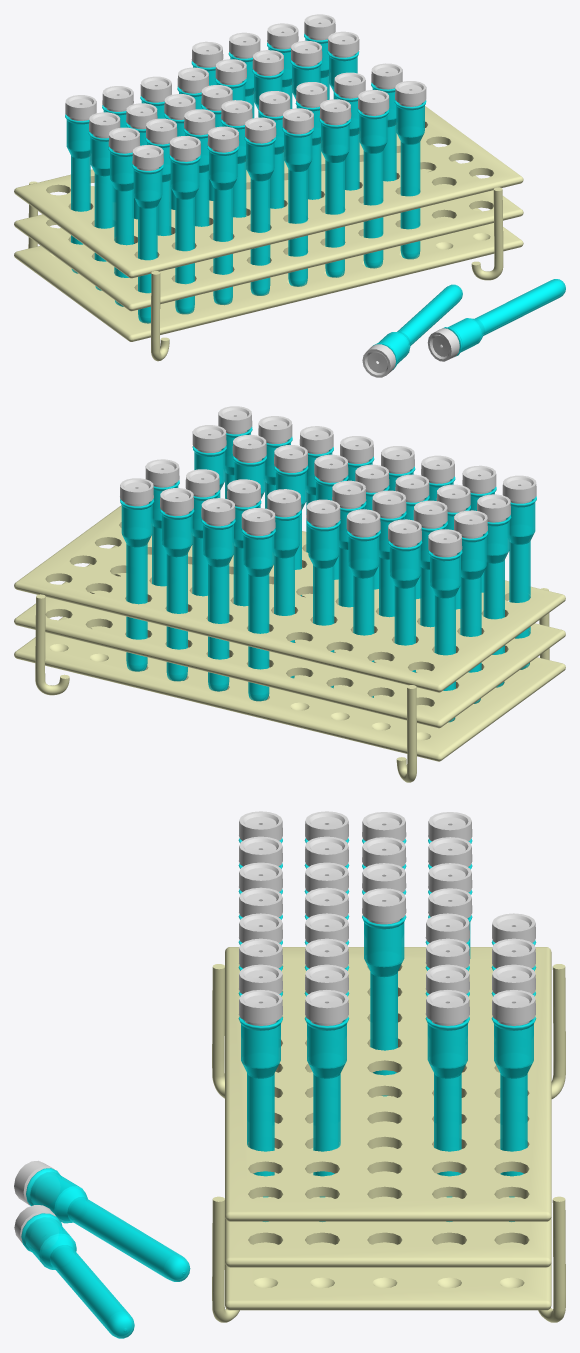
File: Table Flask Second.fbx
The picture shows the model from 3 angles, top to bottom: view 1: azimuth 30°, elevation 25°; view 2: azimuth 150°, elevation 25°; view 3: azimuth 270°, elevation 25°; orthographic projection. The views are drawn at different scales.
Visible parts, largest first — view 1: ChamferBox001, Line042, Line044, Line028, Line024, Line038, Line040, Line026, Line072, Line022, Line036, Line070 (+51 smaller); view 2: ChamferBox001, Line064, Line068, Line062, Line066, Line019, Line014, Line015, Line018, Line022, Line005, Line054 (+48 smaller); view 3: ChamferBox001, Line070, Line072, Line060, Line012, Line062, Line044, Line046, Line003, Line002, Line004, Line001 (+33 smaller).
Boxes of the visible parts, x1=… form: ChamferBox001: x1=14, y1=106, x2=523, y2=341; Line042: x1=357, y1=109, x2=389, y2=268; Line044: x1=394, y1=100, x2=426, y2=259; Line028: x1=244, y1=136, x2=275, y2=295; Line024: x1=169, y1=155, x2=200, y2=314; Line038: x1=282, y1=127, x2=313, y2=286; Line040: x1=319, y1=118, x2=350, y2=277; Line026: x1=207, y1=146, x2=238, y2=305; Line072: x1=443, y1=279, x2=565, y2=356; Line022: x1=132, y1=164, x2=163, y2=323; Line036: x1=108, y1=147, x2=133, y2=306; Line070: x1=373, y1=284, x2=462, y2=369; ChamferBox001: x1=14, y1=505, x2=565, y2=761; Line064: x1=160, y1=508, x2=194, y2=681; Line068: x1=241, y1=528, x2=275, y2=701; Line062: x1=120, y1=499, x2=154, y2=671; Line066: x1=201, y1=518, x2=235, y2=691; Line019: x1=428, y1=550, x2=462, y2=722; Line014: x1=306, y1=520, x2=340, y2=688; Line015: x1=346, y1=530, x2=380, y2=697; Line018: x1=388, y1=540, x2=422, y2=672; Line022: x1=509, y1=496, x2=536, y2=669; Line005: x1=460, y1=531, x2=488, y2=703; Line054: x1=274, y1=510, x2=301, y2=678; ChamferBox001: x1=225, y1=947, x2=551, y2=1310; Line070: x1=26, y1=1168, x2=190, y2=1281; Line072: x1=21, y1=1213, x2=134, y2=1338; Line060: x1=425, y1=1016, x2=469, y2=1221; Line012: x1=362, y1=915, x2=406, y2=1096; Line062: x1=491, y1=1016, x2=536, y2=1221; Line044: x1=238, y1=1016, x2=282, y2=1221; Line046: x1=304, y1=1016, x2=349, y2=1221; Line003: x1=538, y1=1196, x2=565, y2=1322; Line002: x1=212, y1=1196, x2=239, y2=1322; Line004: x1=551, y1=964, x2=565, y2=1098; Line001: x1=212, y1=964, x2=224, y2=1098.
Bounding box in the file's own units: 50.42 × 24.53 × 43.57.
